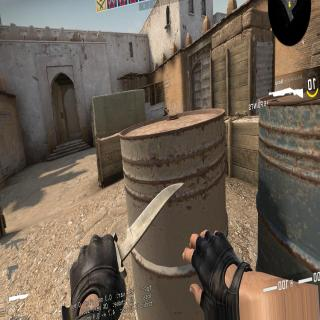CT-Body: (163, 106, 168, 115)
CT-Head: (165, 106, 166, 109)
